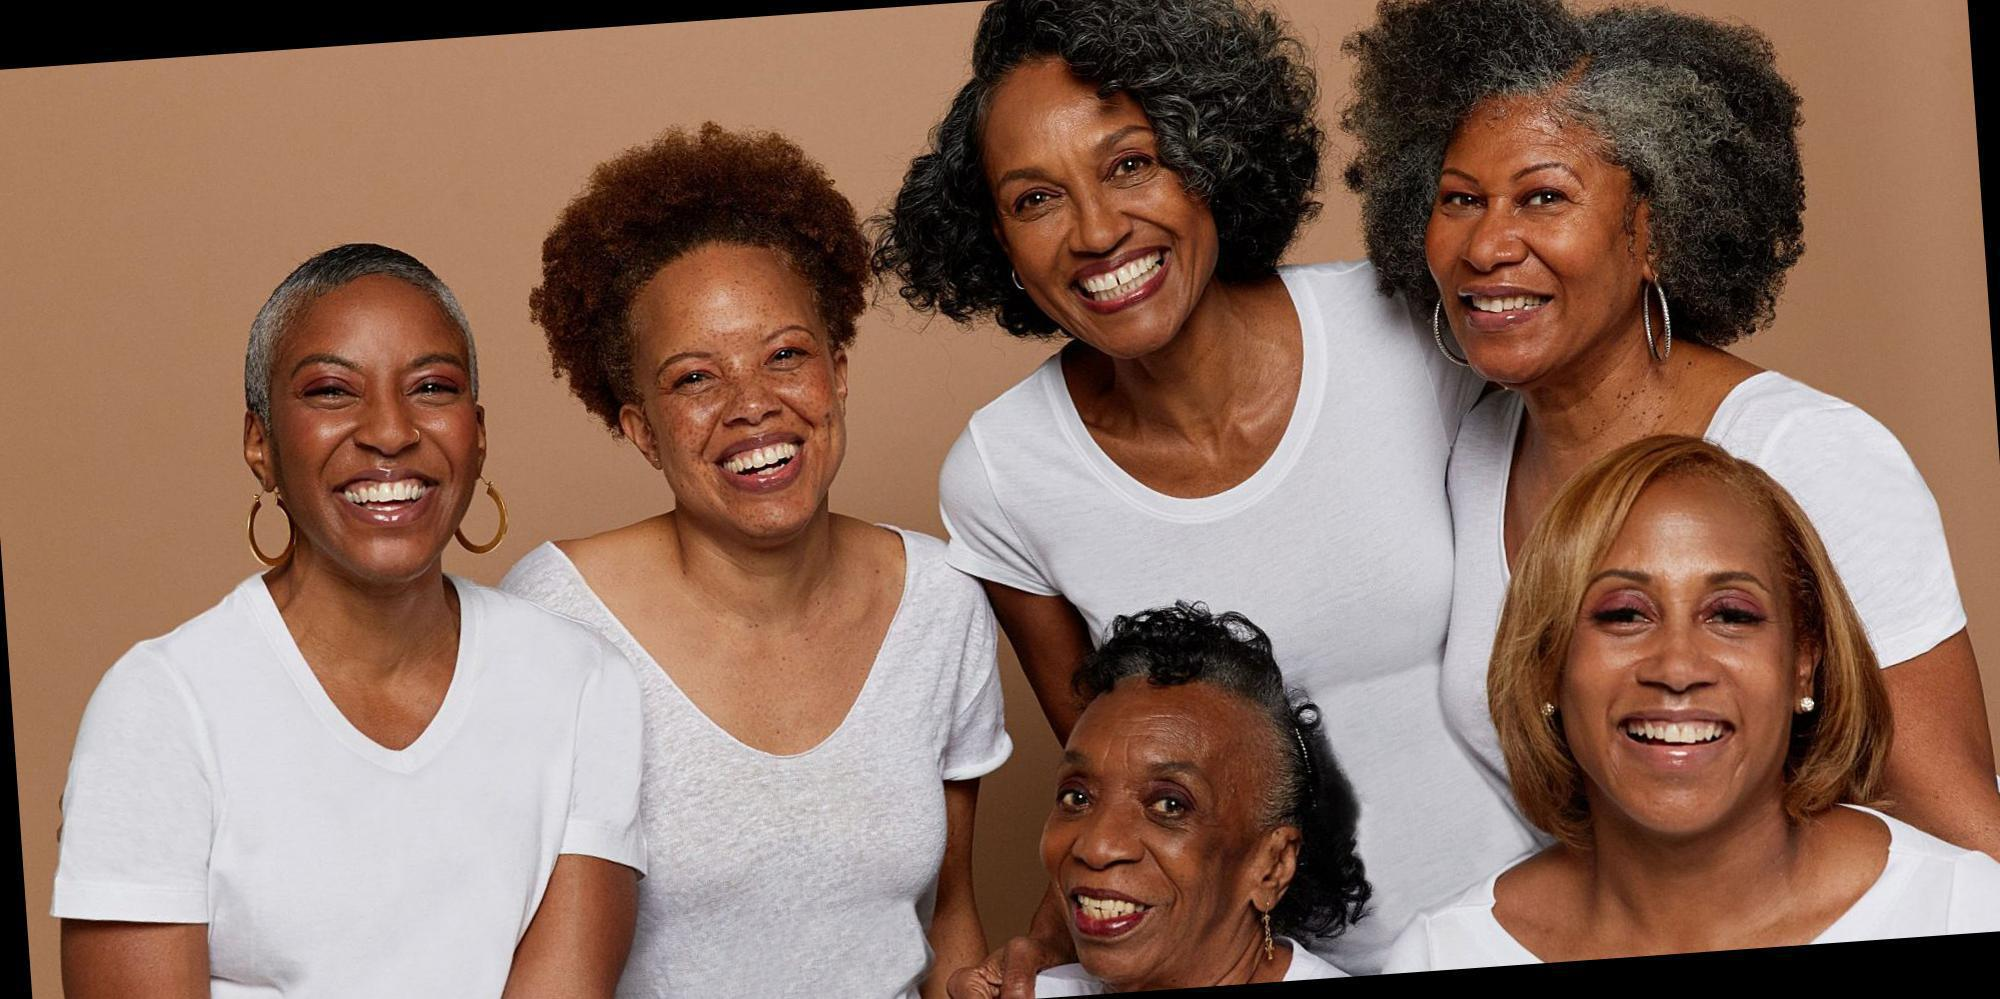Sober: (645, 253, 843, 527), (279, 302, 468, 561), (1040, 712, 1224, 975), (989, 98, 1191, 336), (1429, 142, 1630, 360)
